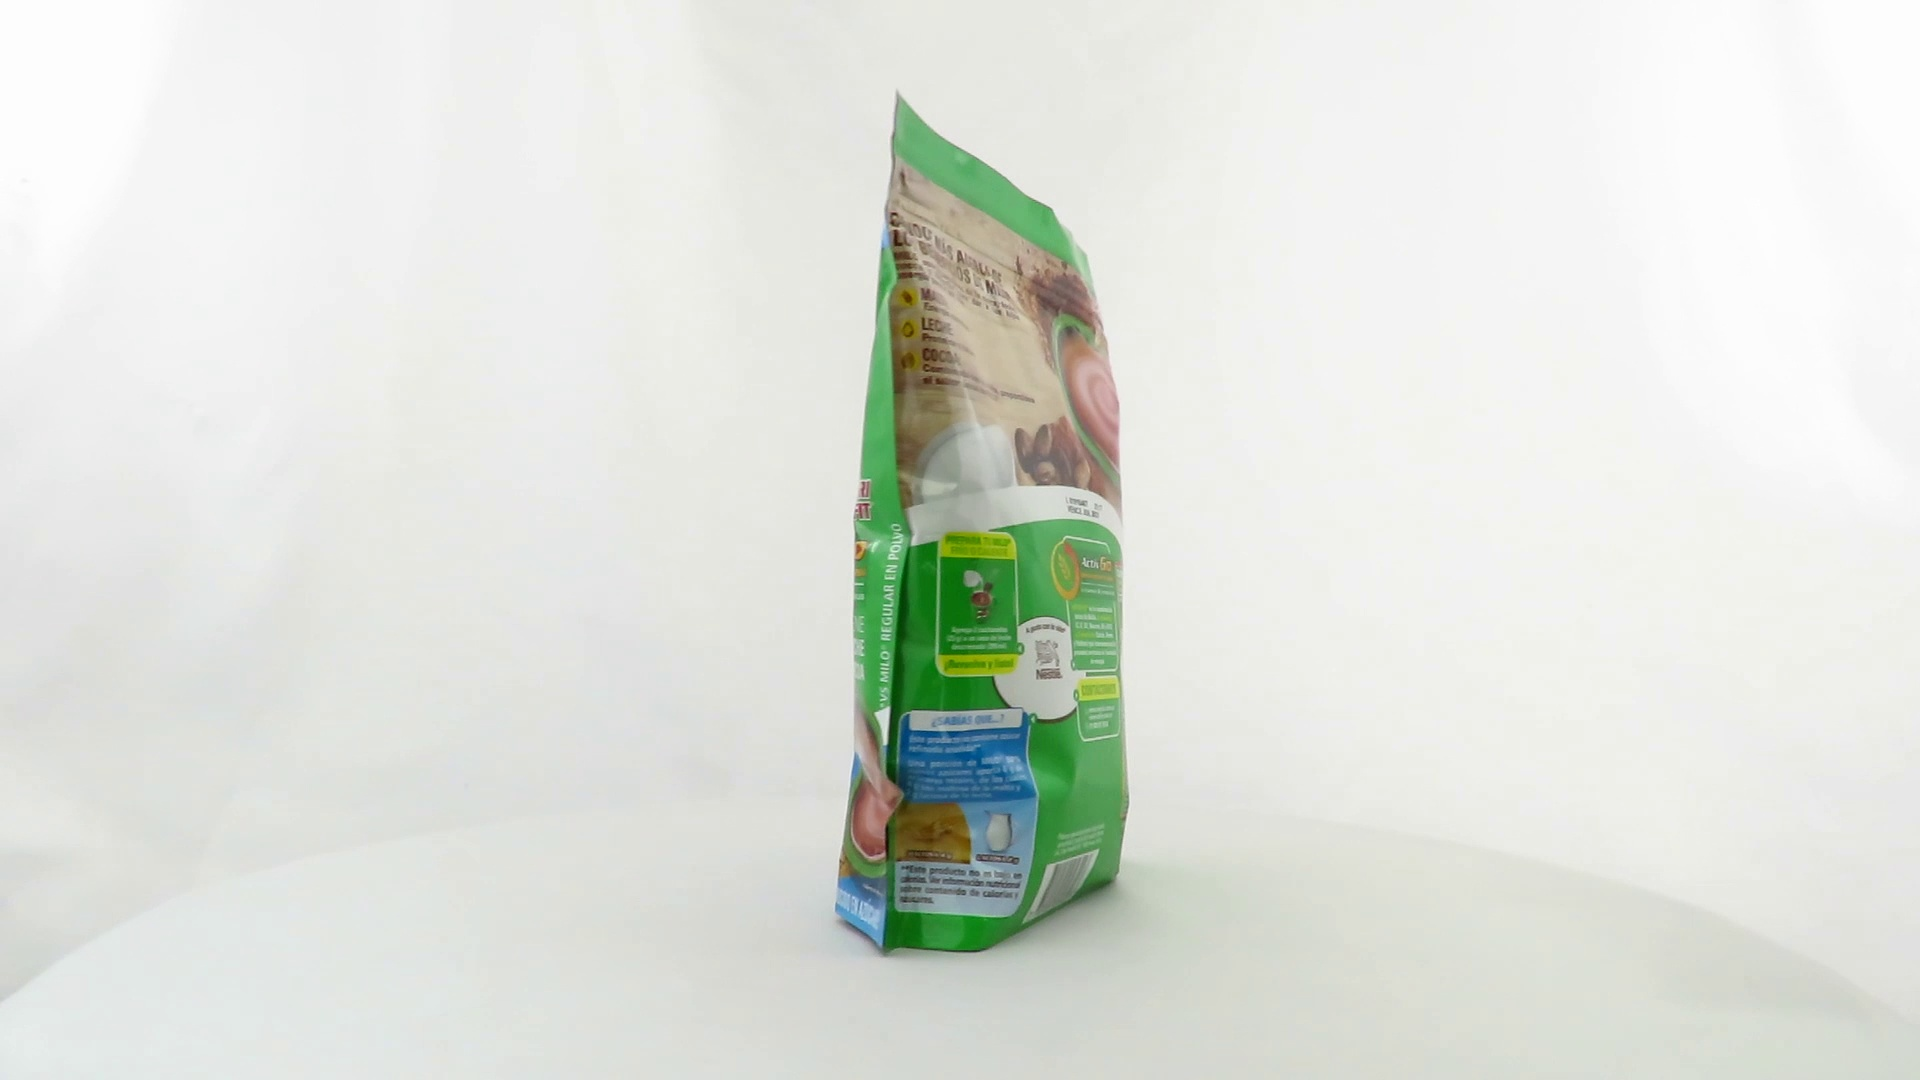COL0170205DYP50000: (829, 84, 1135, 960)
